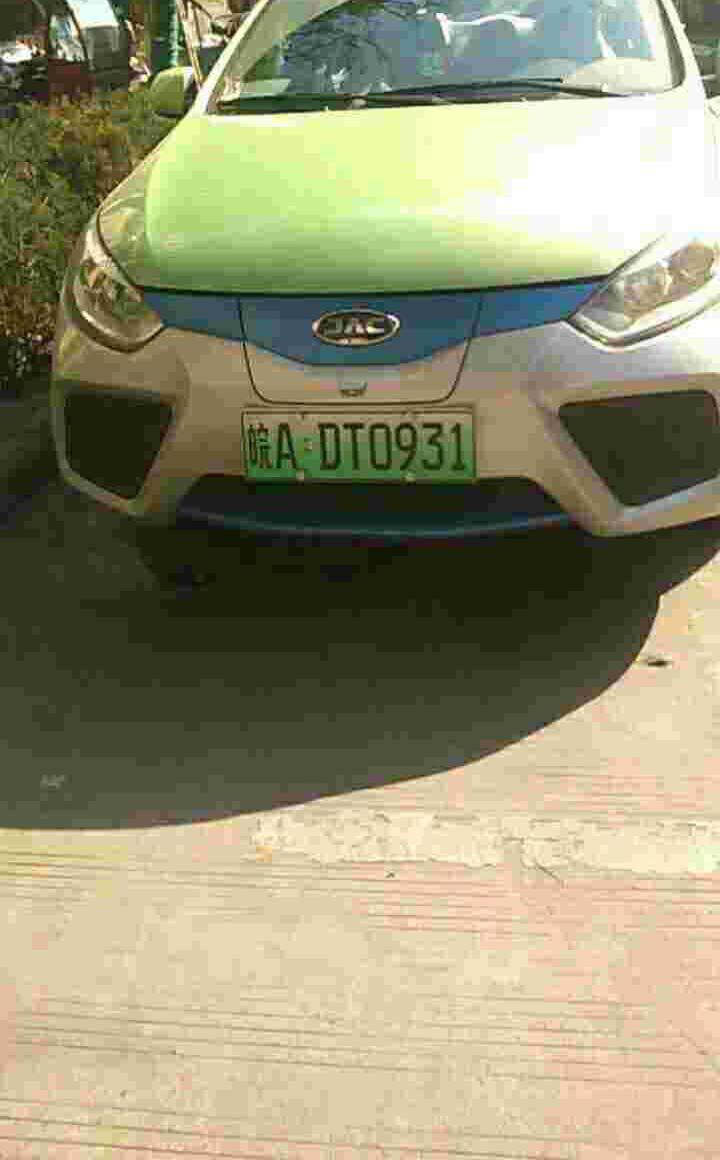car_id: (240, 409, 474, 482)
